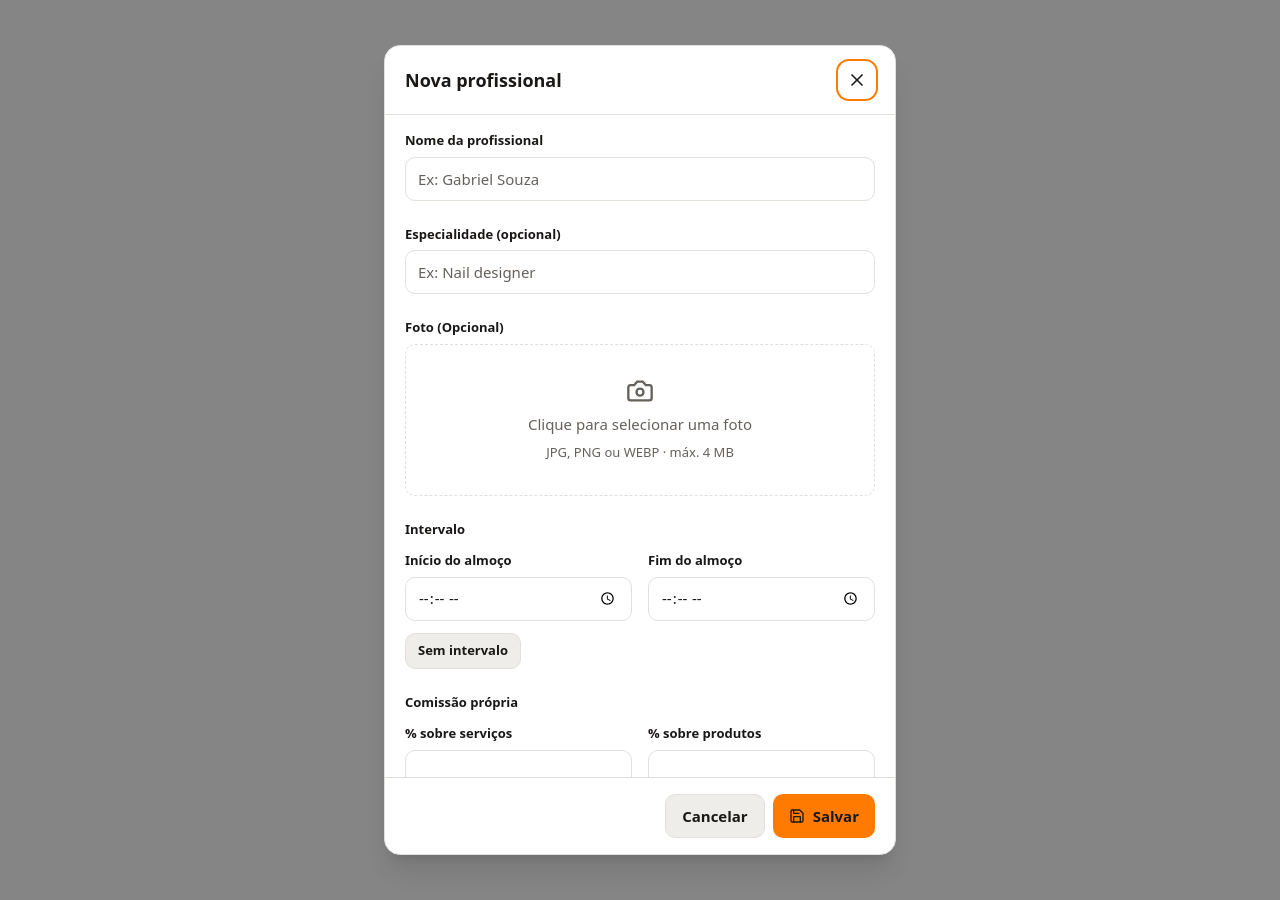
Scenario: ServiceProfessionalModal (profissional) › bloqueia comissão fora de 0 a 100
Step 1. Type "Camila" into the field labelled "Nome da profissional" → (640, 178), box [405,156,875,200]
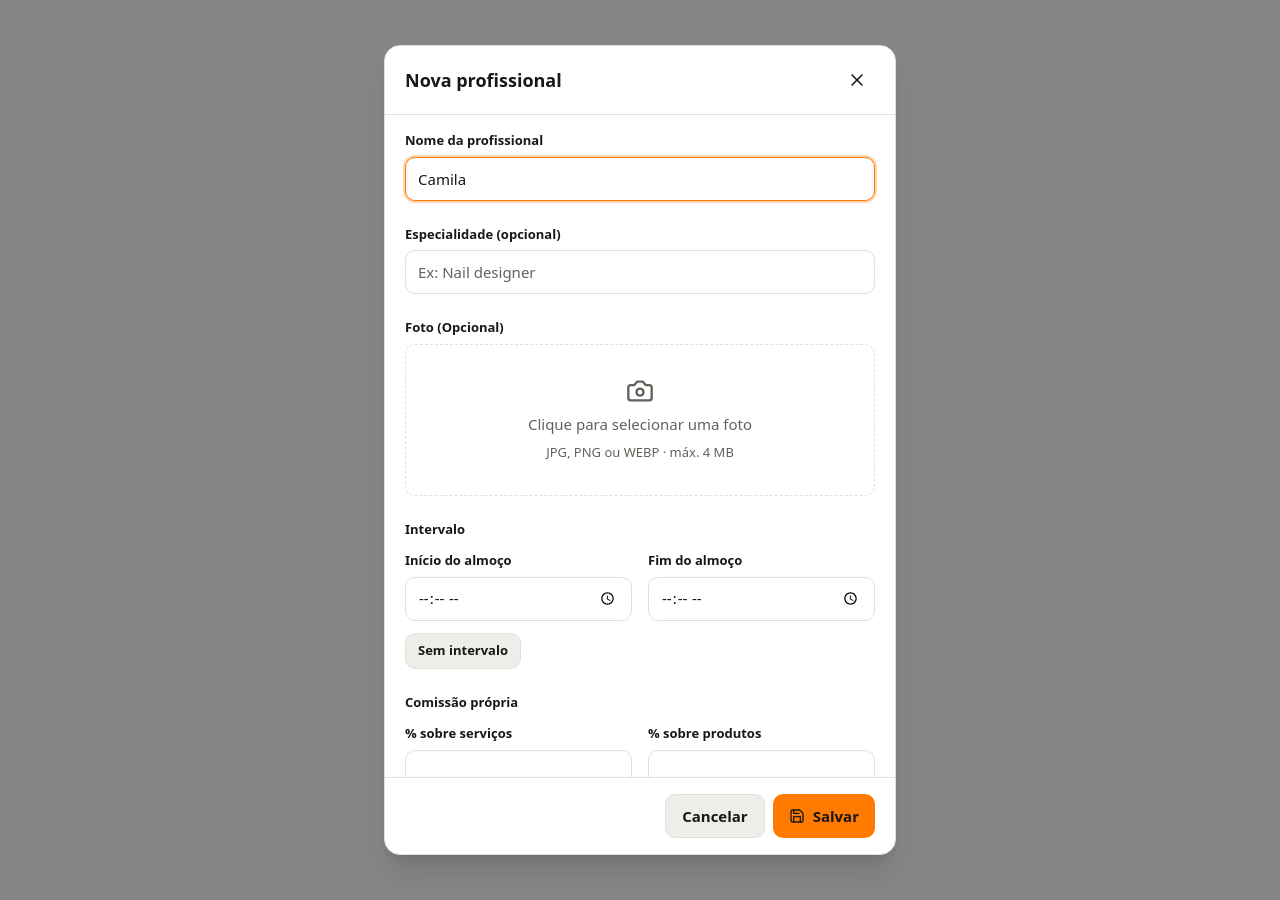
Step 2. Type "150" into the number field labelled "% sobre serviços" → (518, 772), box [405,750,632,794]
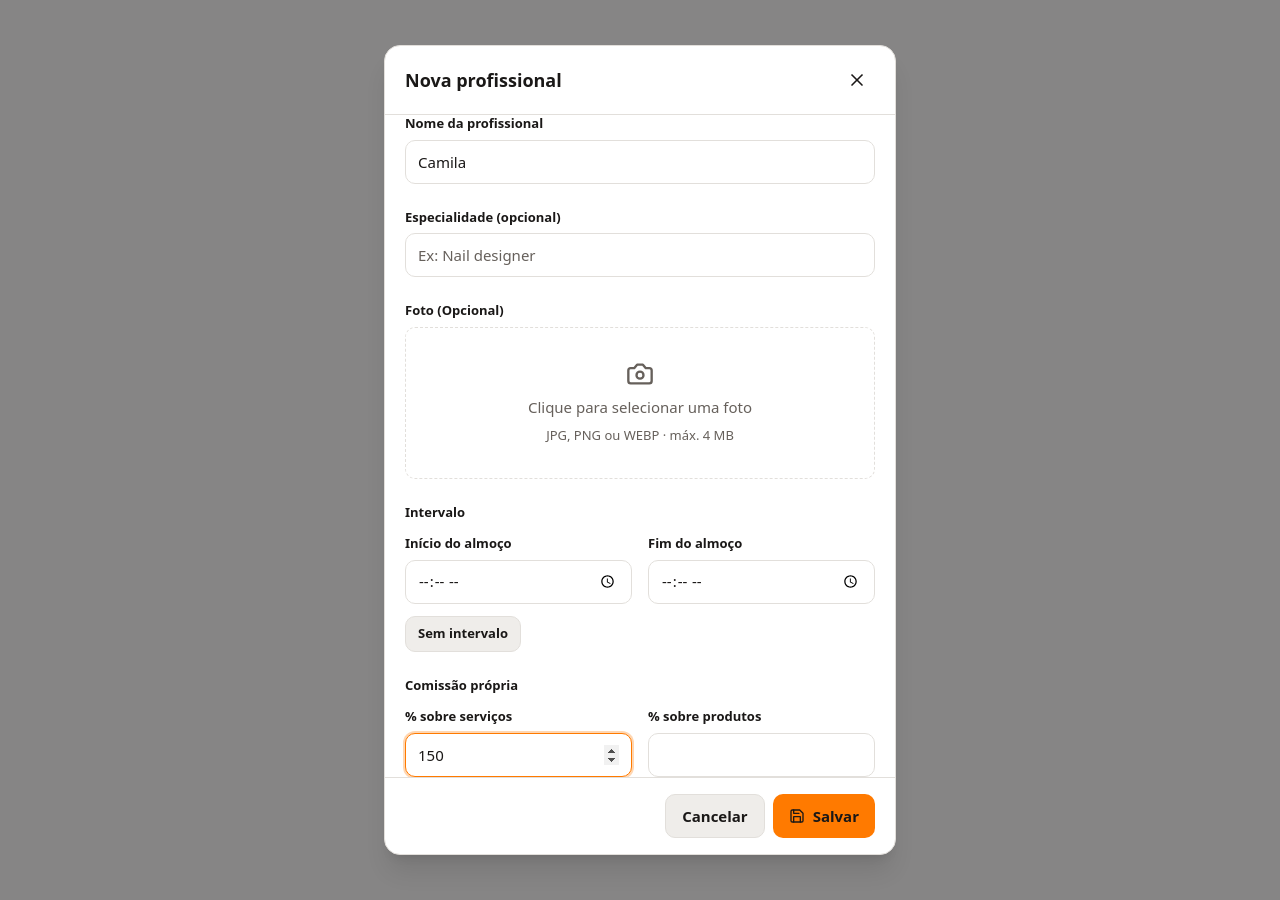
Step 3. Click the button "Salvar" → (824, 816), box [773,794,875,838]
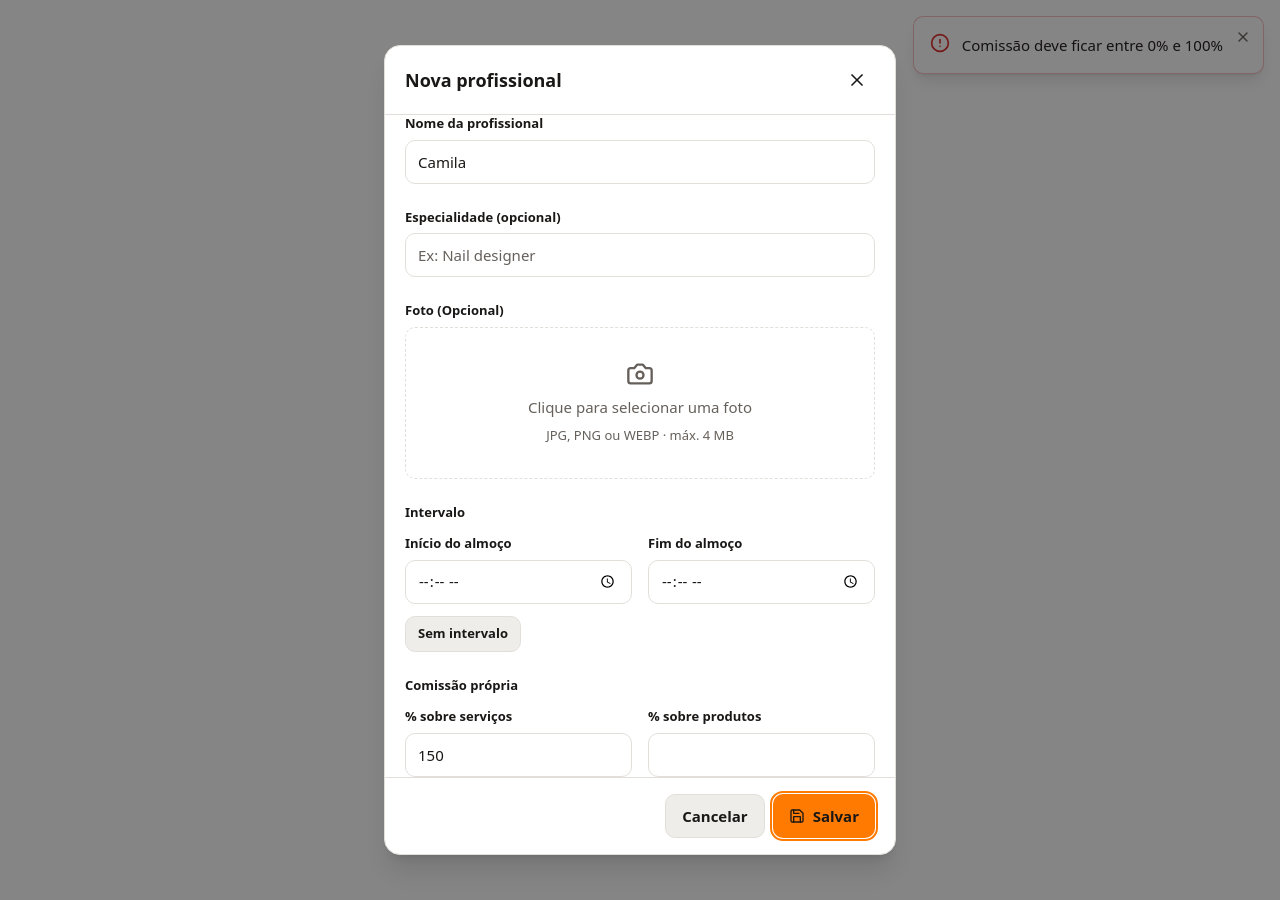
Expected: the text "Comissão deve ficar entre 0% e 100%" is shown, [962,33,1223,57]
